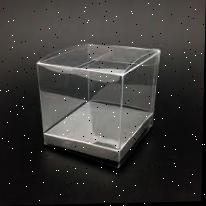cube: (36, 43, 161, 168)
